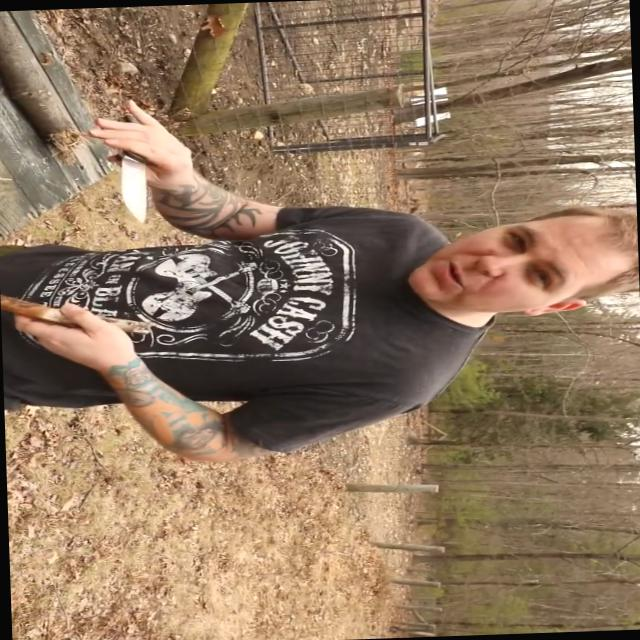knife: (90, 96, 169, 240)
